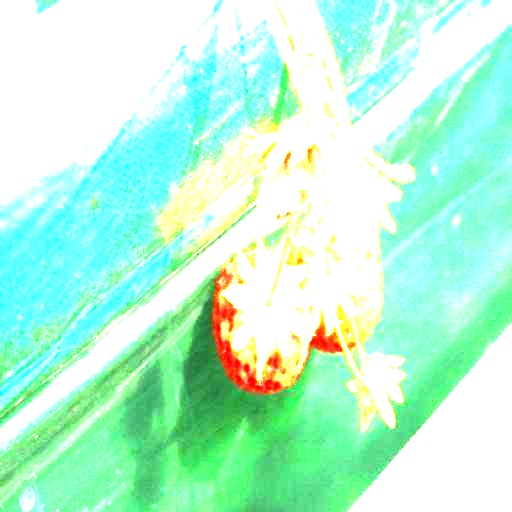Gray Mold: (243, 117, 346, 223)
